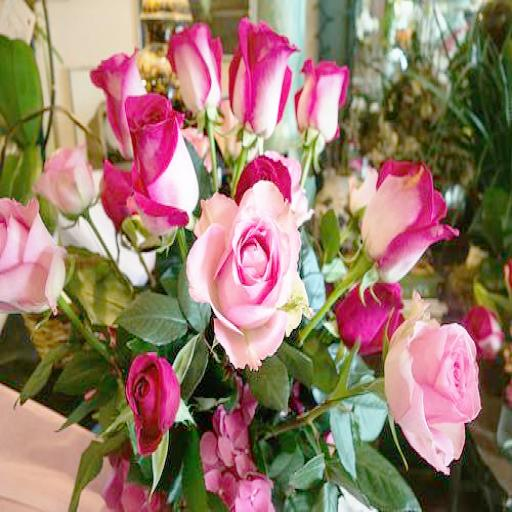rose: (190, 180, 302, 366), (384, 318, 481, 469), (360, 155, 458, 286), (125, 90, 201, 228), (227, 17, 295, 137), (90, 49, 155, 151), (125, 352, 182, 455), (168, 23, 226, 111), (294, 60, 346, 138), (34, 148, 95, 212)
